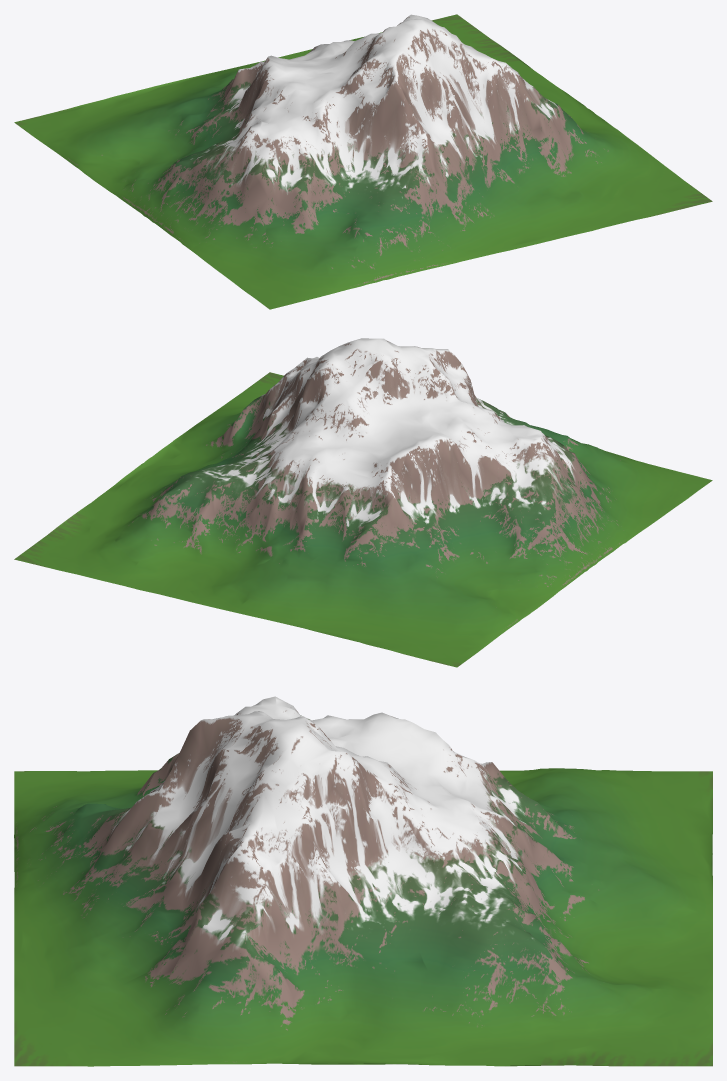
3 views of the same model, one above another, from view 1: azimuth 30°, elevation 25°; view 2: azimuth 150°, elevation 25°; view 3: azimuth 270°, elevation 25° (orthographic). The views are drawn at different scales.
Parts seen in each view (by area): view 1: submesh_0; view 2: submesh_0; view 3: submesh_0.
Part boxes in pixels (x1,y1,x2,y2): submesh_0: (14,14,712,309); submesh_0: (14,338,712,667); submesh_0: (14,696,712,1066).
Bounding box in the file's own units: 1052 × 347 × 1052.
1 material, 1 textured.
